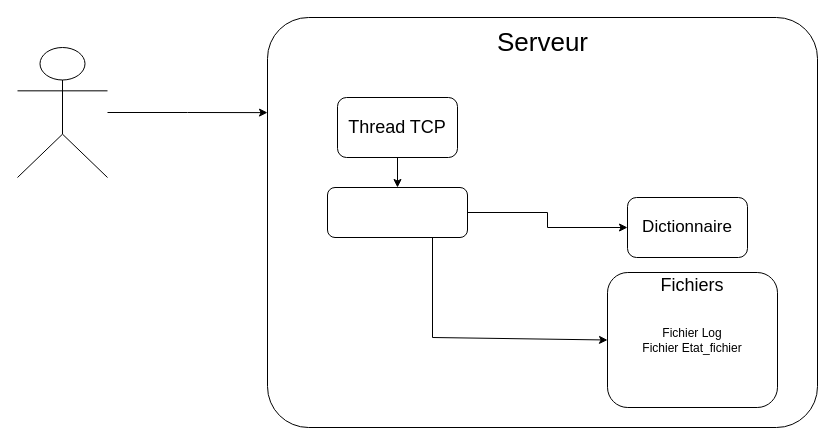
The diagram is 835 pixels wide and 445 high, and some of its shapes have lost their labels. Each missing label, with the centre of its shape:
Client: the point at 62,112
Handler: the point at 397,212
